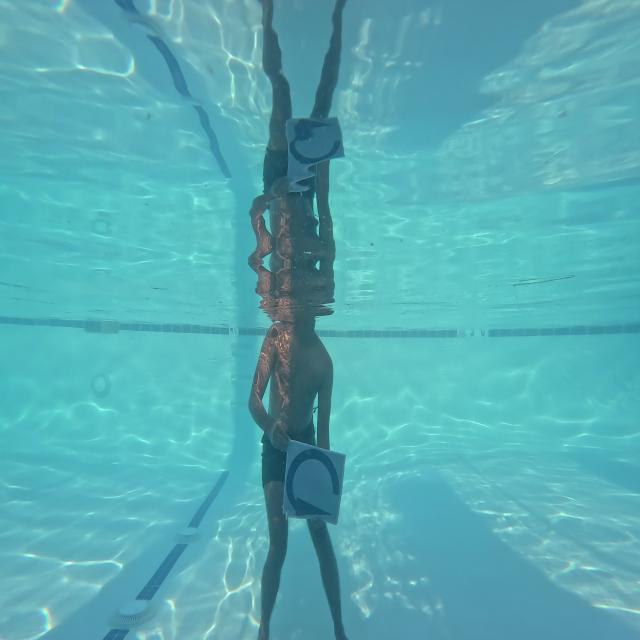blue_side: (285, 443, 344, 526)
